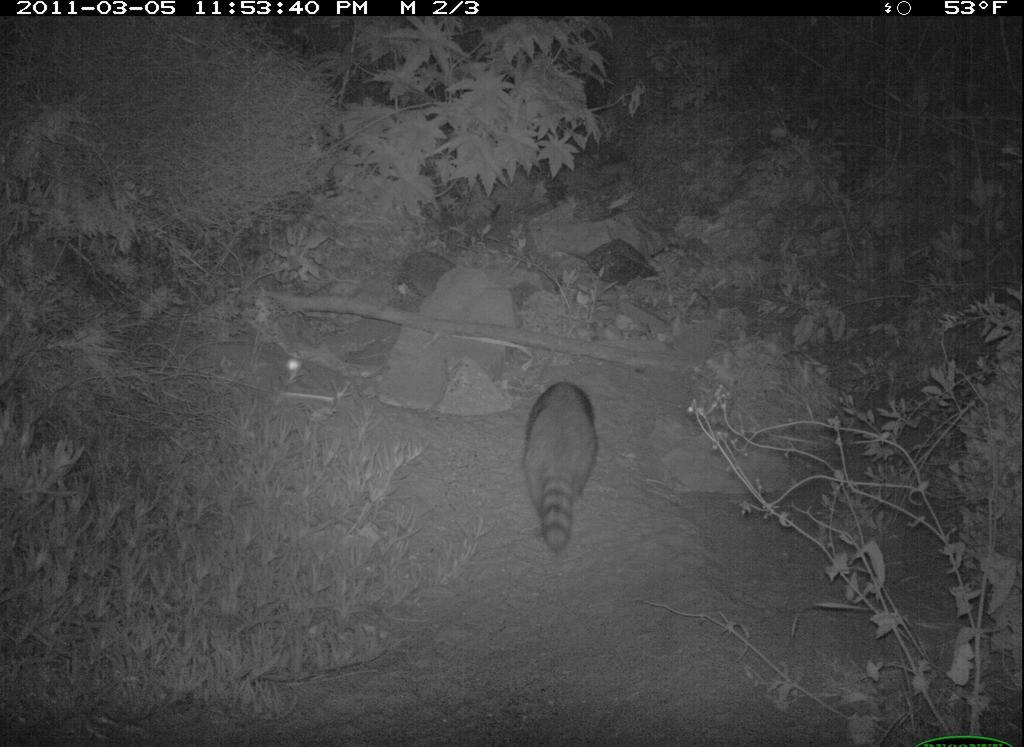raccoon: (510, 367, 612, 577)
